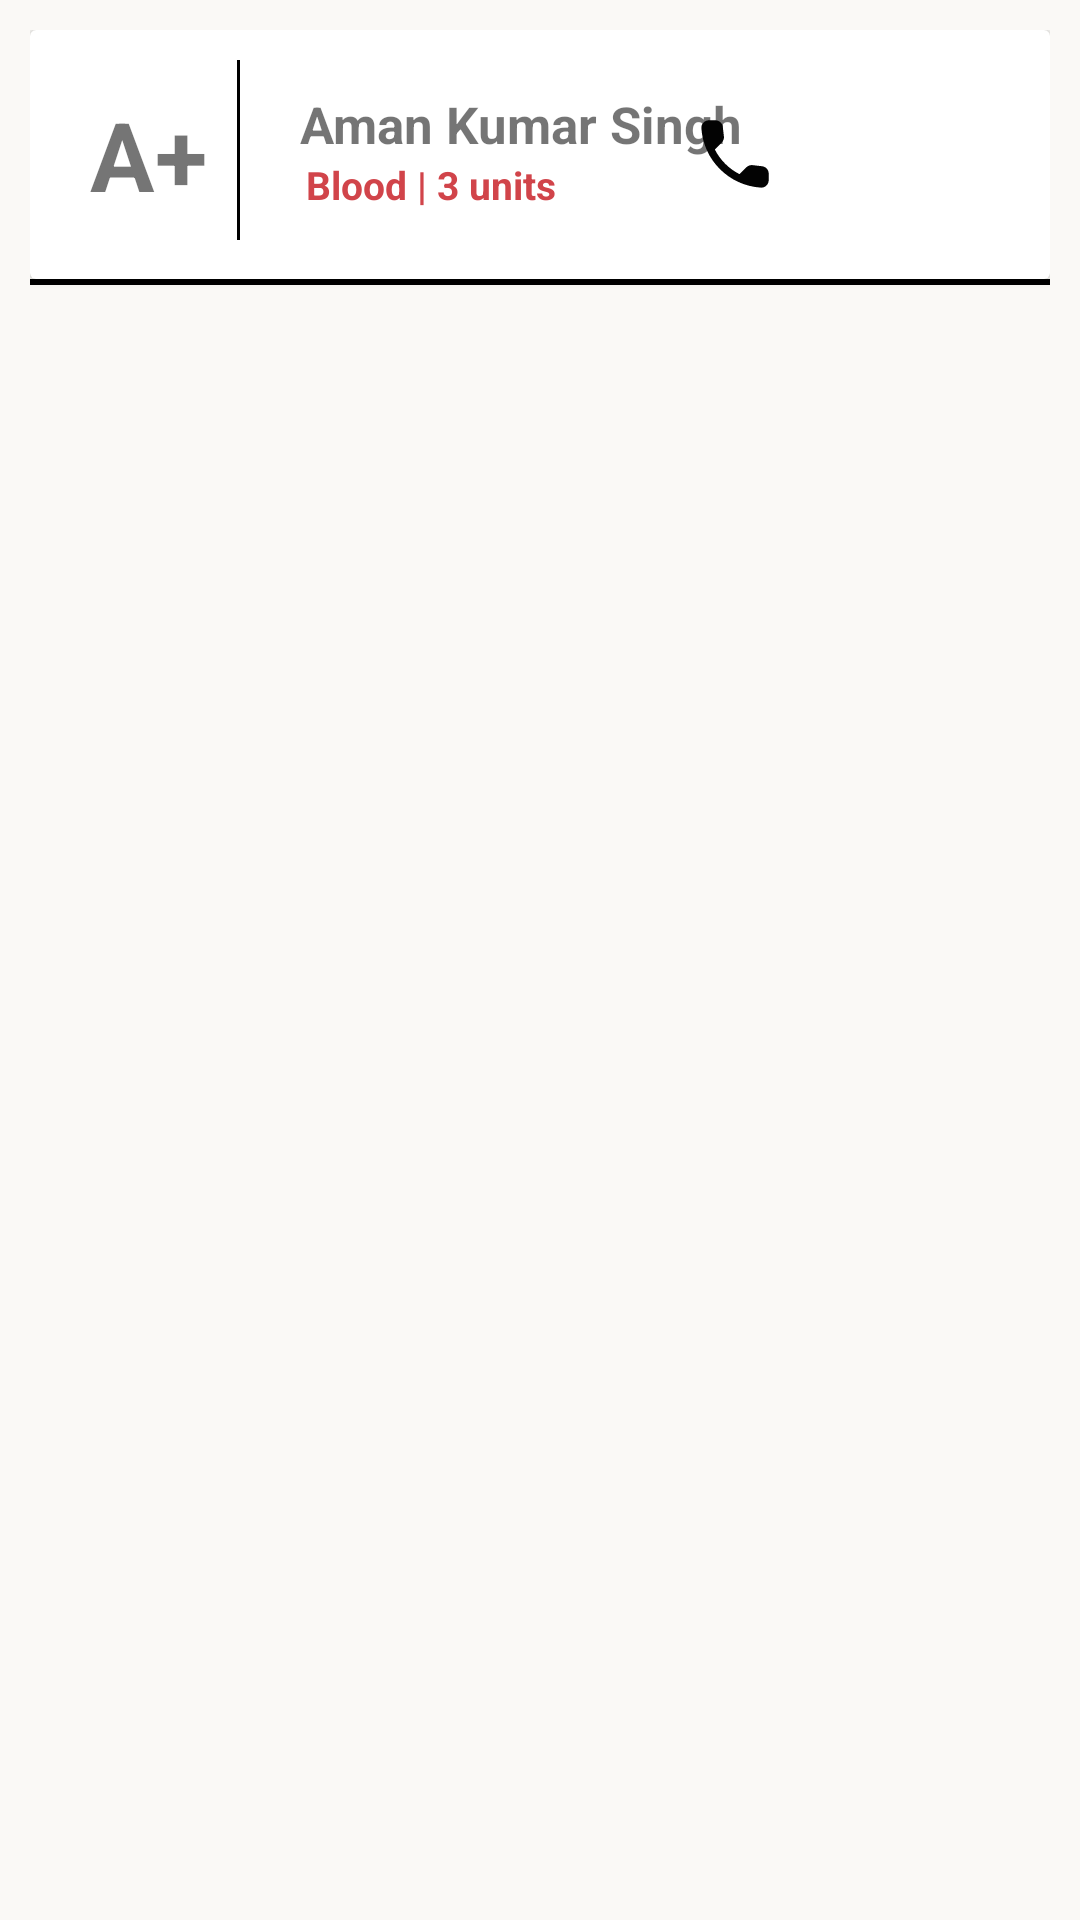

Named icons in this screenshot (1080×1920) and their centers, (x,y):
call: (729,148)
